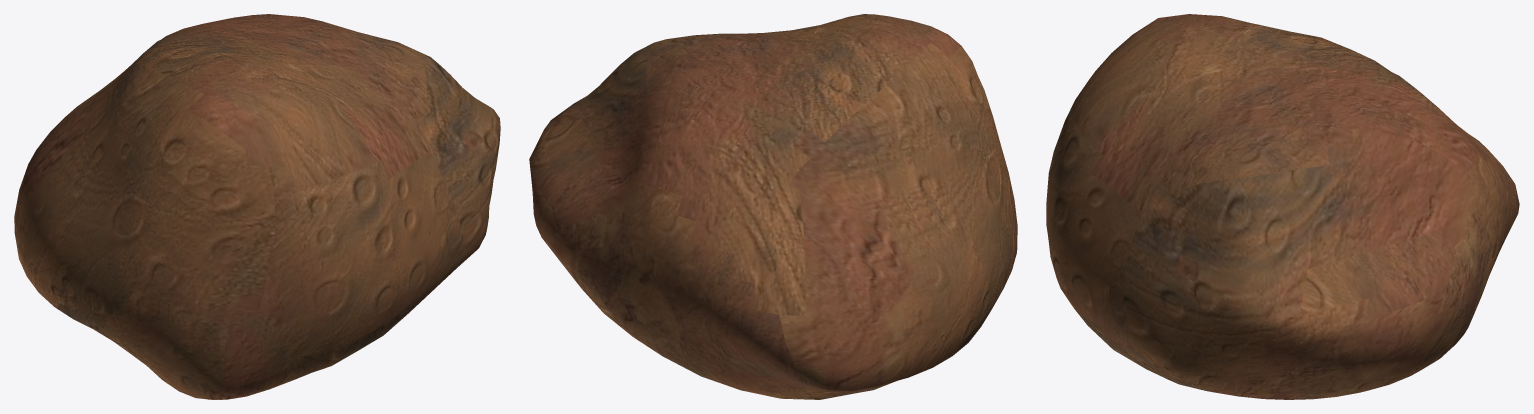
Rendered from MarsRock14.obj.
3 renders of one model, left to right at view 1: azimuth 30°, elevation 25°; view 2: azimuth 150°, elevation 25°; view 3: azimuth 270°, elevation 25°, orthographic. The views are drawn at different scales.
Parts seen in each view (by area): view 1: Rocks; view 2: Rocks; view 3: Rocks.
Part boxes in pixels (x1,y1,x2,y2): Rocks: (14,14,500,399); Rocks: (529,14,1017,399); Rocks: (1046,14,1519,399).
Bounding box in the file's own units: 0.7606 × 0.542 × 0.6907.
Materials: 1 (1 with a texture image).
